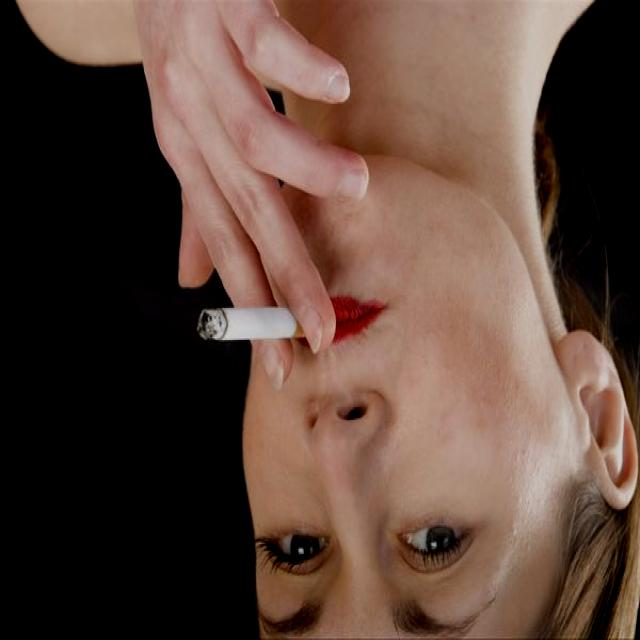cigarette: (198, 305, 308, 343)
